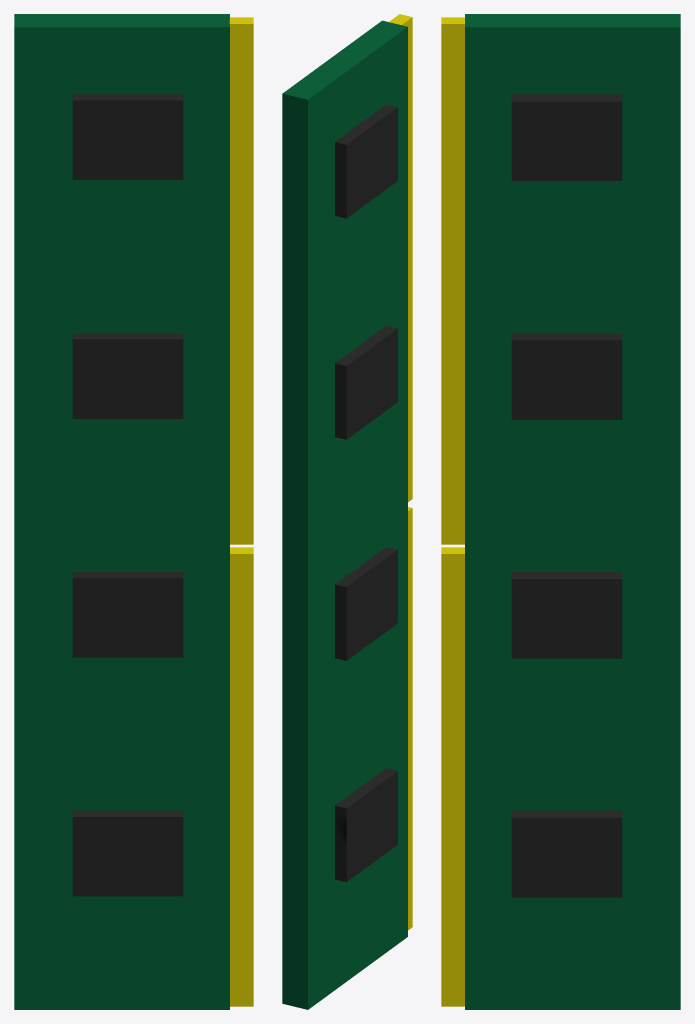
File: DDR_TEST.fbx
3 views of the same model, side by side, from view 1: azimuth 90°, elevation 25°; view 2: azimuth 150°, elevation 25°; view 3: azimuth 270°, elevation 25° (orthographic). The views are drawn at different scales.
Parts seen in each view (by area): view 1: DDR-1; view 2: DDR-1; view 3: DDR-1.
Boxes of the visible parts, bbox=[...] form: DDR-1: bbox=[14, 14, 253, 1009]; DDR-1: bbox=[282, 14, 412, 1009]; DDR-1: bbox=[441, 14, 680, 1009].
Size of the model in its own units: 3.13 by 53.63 by 11.84.
1 material, 1 textured.
